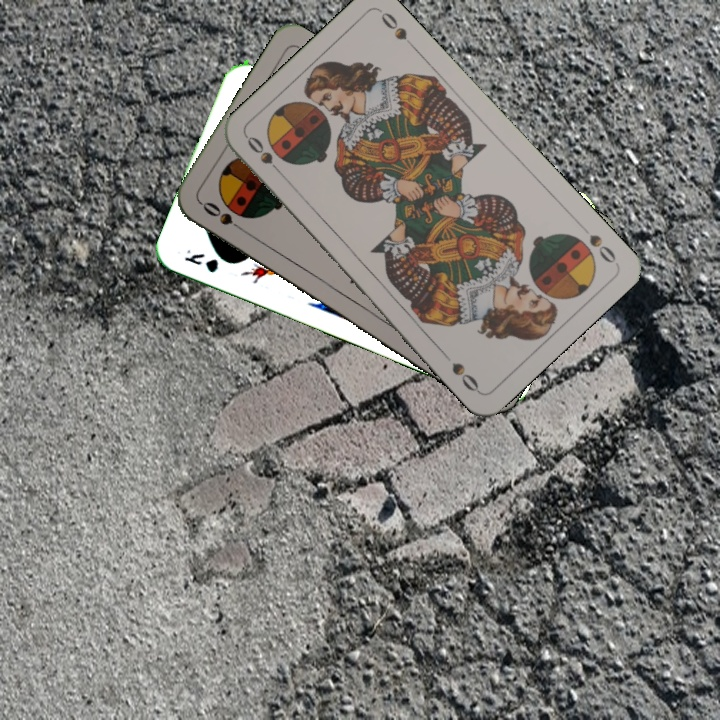GK: (180, 245, 221, 276)
SO: (242, 131, 288, 180), (197, 197, 249, 237), (584, 230, 619, 267)
